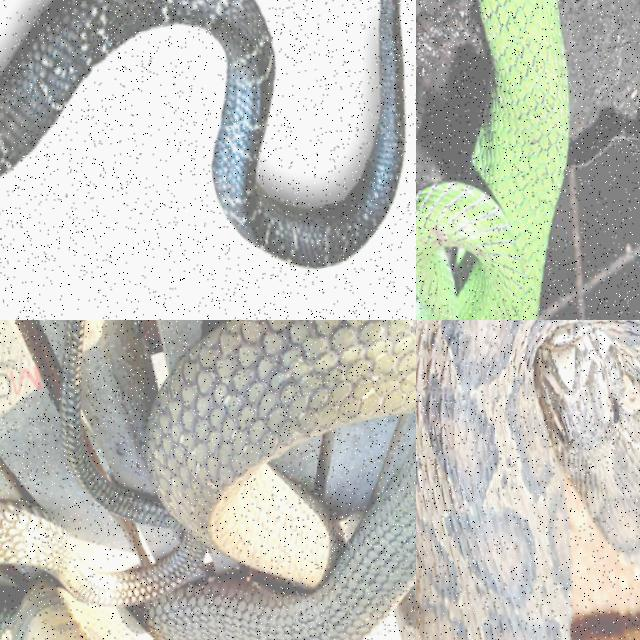Daboia siamensis: (416, 320, 639, 639)
Naja siamensis: (0, 0, 405, 267)
Ophiophagus hannah: (0, 320, 415, 639)
Trimeresurus macrops: (416, 0, 568, 319)
